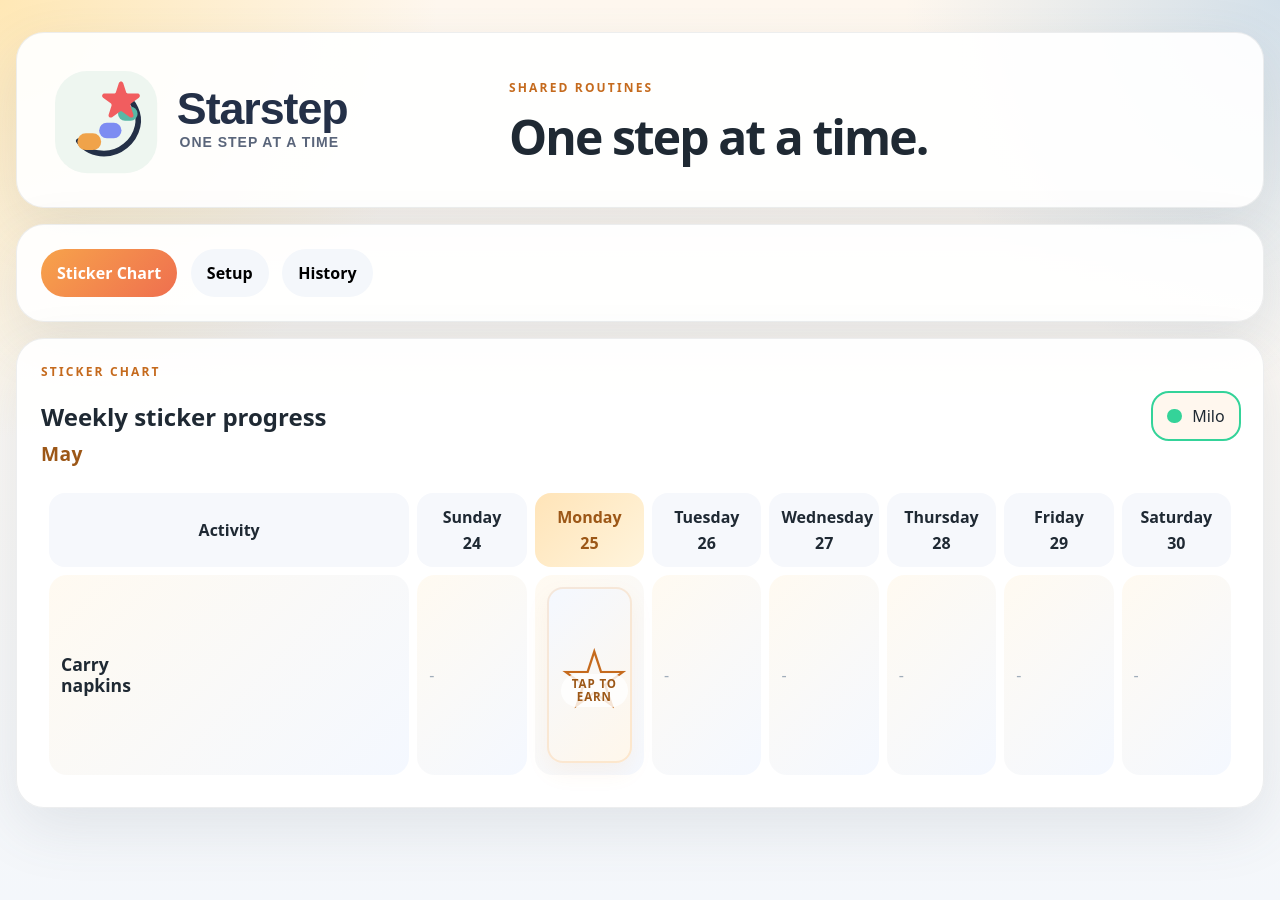
App › records completion even when backend celebration imagery generation fails
This screenshot has width=1280, height=900.
Step 1. Click the button "☆ Tap to earn" → [589, 675], box [547,587,632,763]
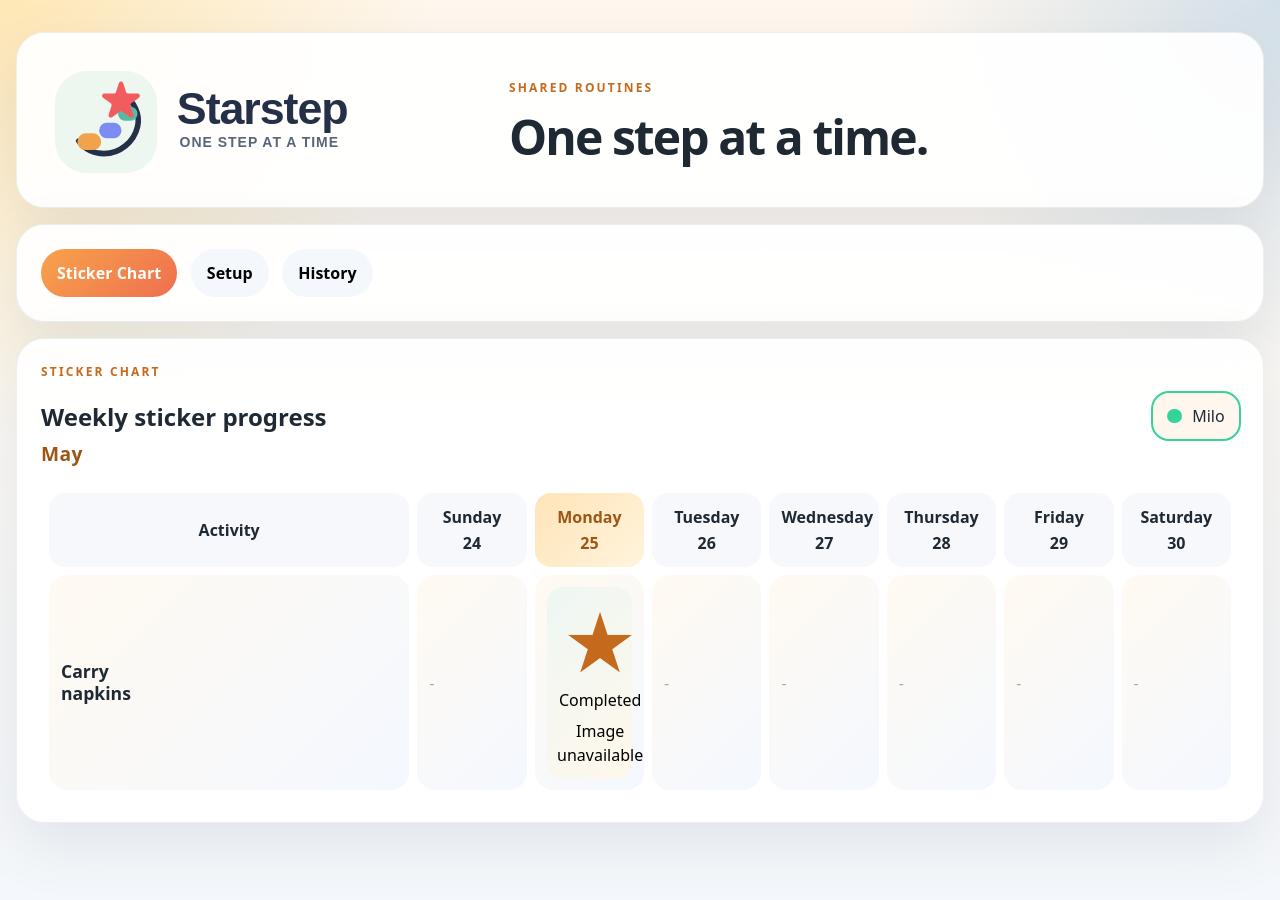
expect the text "Image unavailable" is shown: met, box [557,719,643,767]
